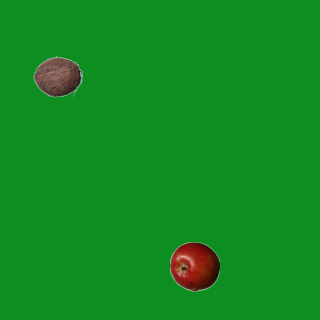Apple Braeburn: (169, 241, 219, 291)
Cocos: (32, 51, 82, 101)
